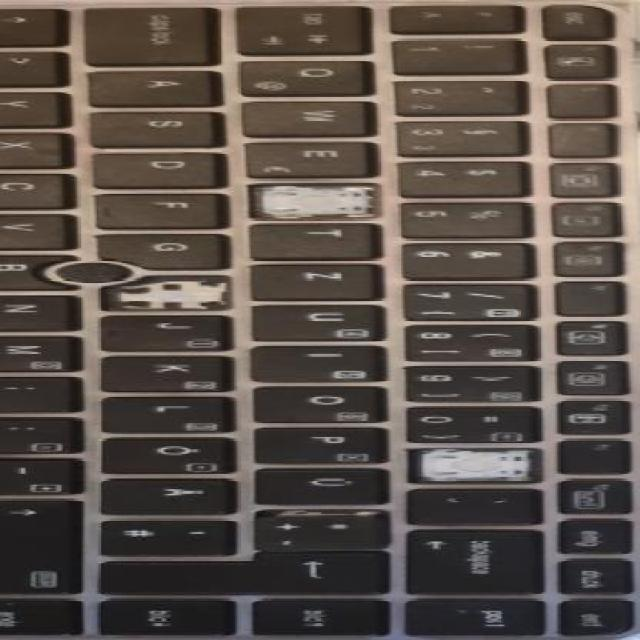Keyboard problems: (408, 449, 540, 482), (251, 186, 377, 217), (109, 277, 228, 308)
